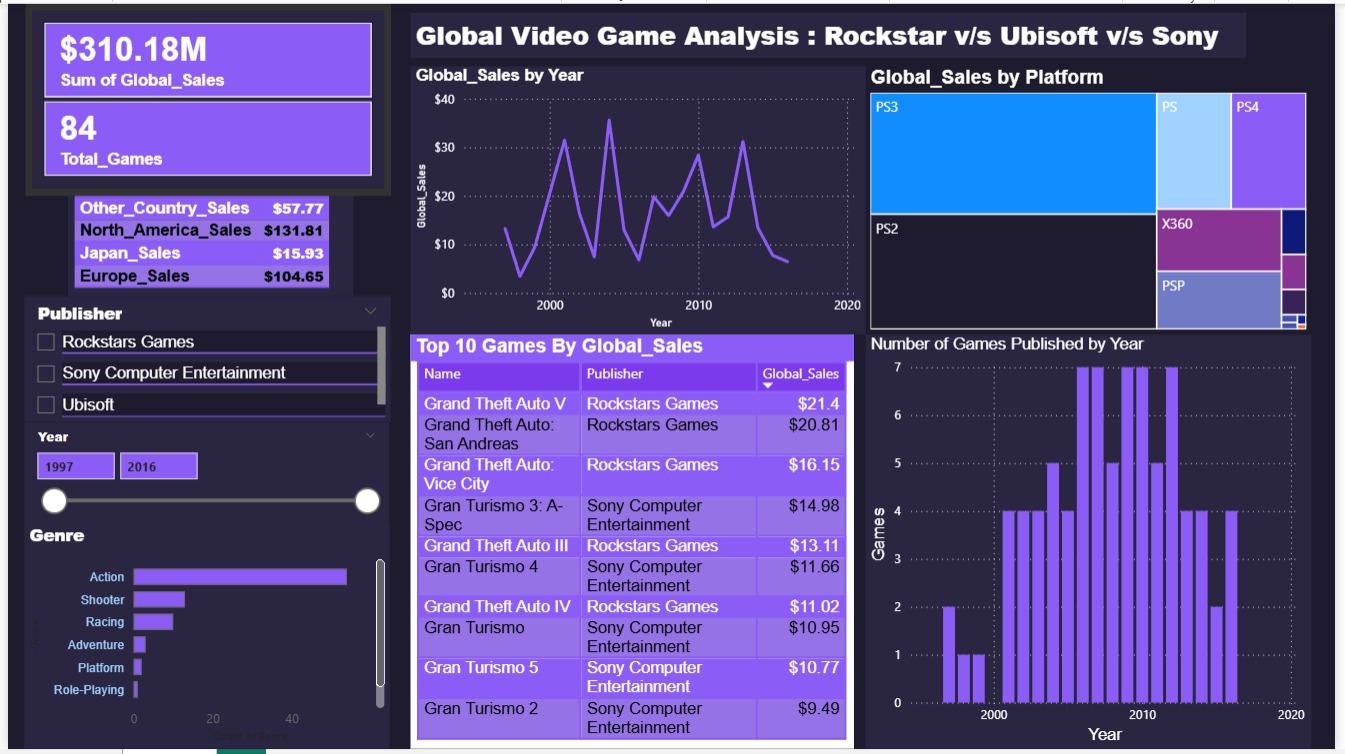

The dashboard page shown, as its layout file describes it:
{"tool":"powerbi","page":{"name":"Page 1","canvas":[1280,720],"ordinal":0},"visuals":[{"type":"slicer","fields":{"Values":["Games Sales(in).Year"]},"box":[16.2,403.7,351.6,98.3],"z":0},{"type":"barChart","title":"Genre","fields":{"Category":["Games Sales(in).Genre"],"Y":["CountNonNull(Games Sales(in).Genre)"]},"box":[16.2,502,352.8,217.5],"z":1000},{"type":"slicer","fields":{"Values":["Games Sales(in).Publisher"]},"box":[15.7,282.3,353.5,121.9],"z":2000},{"type":"pivotTable","fields":{"Values":["Sum(Games Sales(in).Other_Sales)","Sum(Games Sales(in).NA_Sales)","Sum(Games Sales(in).JP_Sales)","Sum(Games Sales(in).EU_Sales)"]},"box":[18.5,151.5,351.6,130.7],"z":3000},{"type":"cardVisual","fields":{"Data":["Sum(Games Sales(in).Global_Sales)","Games Sales(in).Total_Games"]},"box":[16.3,0,352.5,186],"z":4000},{"type":"treemap","title":"Global_Sales by Platform","fields":{"Group":["Games Sales(in).Platform"],"Values":["Sum(Games Sales(in).Global_Sales)"]},"box":[828.2,60.1,430.3,259.1],"z":5000},{"type":"lineChart","title":"Global_Sales by Year","fields":{"Category":["Games Sales(in).Year"],"Y":["Sum(Games Sales(in).Global_Sales)"]},"box":[388.6,60.1,439.5,259.1],"z":6000},{"type":"tableEx","fields":{"Values":["Games Sales(in).Name","Games Sales(in).Publisher ","Sum(Games Sales(in).Global_Sales)"]},"box":[388.6,319.2,428,375.9],"z":7000},{"type":"clusteredColumnChart","title":"Number of Games Published by Year","fields":{"Category":["Games Sales(in).Year"],"Y":["CountNonNull(Games Sales(in).Name)"]},"box":[828.2,319.2,430.3,400.2],"z":8000},{"type":"textbox","box":[388.6,8.1,806.2,44],"z":8001}]}

Visuals, with their boxes in screenshot pixels (x1, y1, x2, y2), scaled from the page's 1280x720 canvas onto the 1345x754 screenshot:
slicer - Games Sales(in).Year: locate(17, 423, 386, 526)
"Genre" barChart: locate(17, 526, 388, 753)
slicer - Games Sales(in).Publisher: locate(16, 296, 388, 423)
pivotTable - Sum(Games Sales(in).Other_Sales) x Sum(Games Sales(in).NA_Sales): locate(19, 159, 389, 296)
cardVisual - Sum(Games Sales(in).Global_Sales) x Games Sales(in).Total_Games: locate(17, 0, 388, 195)
"Global_Sales by Platform" treemap: locate(870, 63, 1322, 334)
"Global_Sales by Year" lineChart: locate(408, 63, 870, 334)
tableEx - Games Sales(in).Name x Games Sales(in).Publisher : locate(408, 334, 858, 728)
"Number of Games Published by Year" clusteredColumnChart: locate(870, 334, 1322, 753)
textbox: locate(408, 8, 1255, 55)
